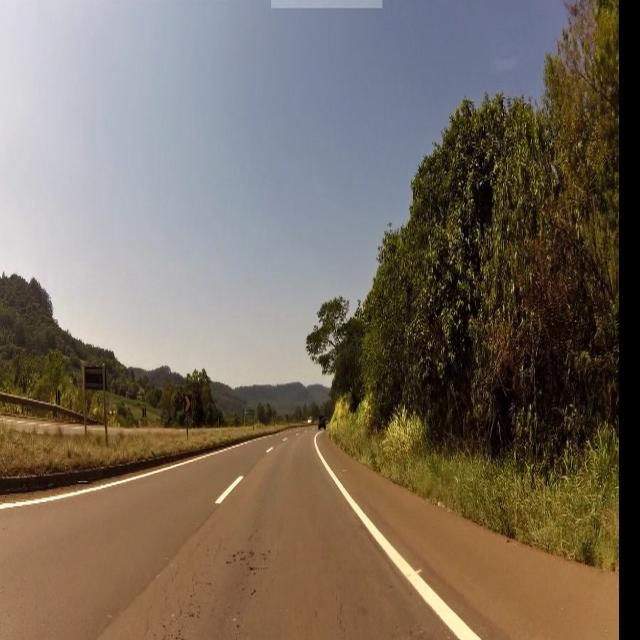Del: (184, 396, 192, 411)
